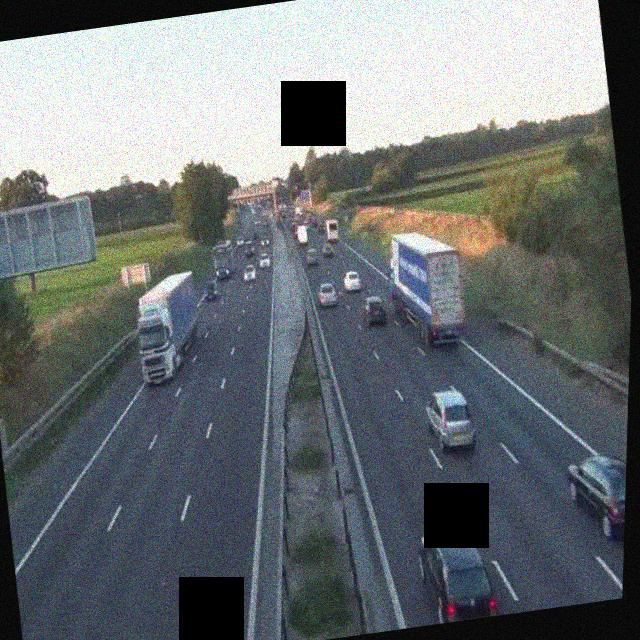bus: (210, 240, 236, 280), (325, 218, 343, 244)
car: (413, 526, 501, 626), (564, 449, 627, 547), (422, 385, 478, 453), (360, 294, 388, 326), (317, 281, 339, 309), (342, 269, 364, 292), (242, 262, 257, 282), (321, 238, 335, 258), (305, 248, 320, 266), (257, 252, 272, 268), (243, 243, 256, 258), (260, 234, 272, 248), (234, 236, 243, 247)
truck: (382, 226, 473, 351), (128, 268, 212, 384), (295, 223, 310, 246)
